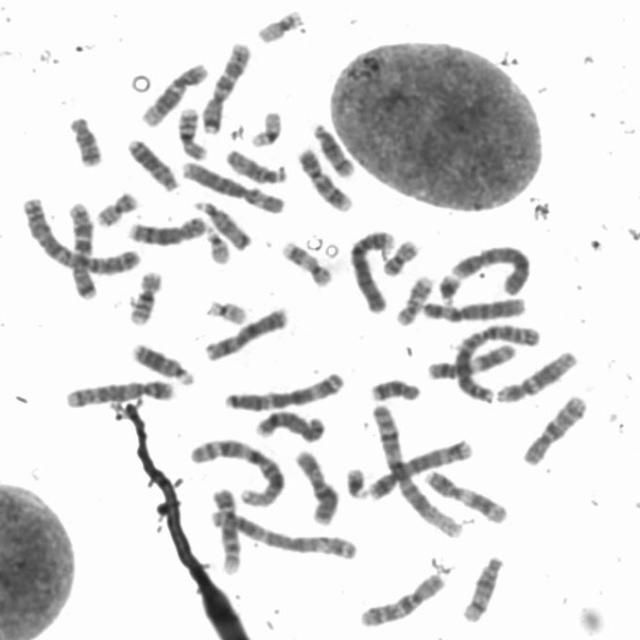A1: (370, 402, 465, 541), (186, 437, 286, 508)
A2: (22, 195, 142, 278), (452, 322, 541, 404)
A3: (207, 511, 360, 562), (224, 370, 349, 411)
B4: (346, 230, 397, 316), (448, 245, 531, 297)
B5: (368, 437, 473, 502), (64, 380, 178, 410)
C10: (519, 394, 591, 468), (356, 573, 448, 630)
C11: (422, 468, 508, 526), (425, 343, 518, 383)
C12: (137, 60, 211, 130), (494, 349, 580, 404)
C6: (180, 159, 284, 217), (420, 294, 524, 326)
C7: (200, 42, 252, 135), (64, 202, 100, 301)
C8: (125, 214, 209, 248), (252, 411, 328, 446)
C9: (297, 147, 353, 213), (210, 487, 243, 575)
D13: (124, 137, 180, 194), (126, 342, 196, 387)
D14: (460, 553, 504, 625), (312, 120, 359, 179)
D15: (191, 200, 254, 252), (225, 148, 291, 187)
E16: (126, 270, 164, 330), (175, 105, 209, 163)
E17: (282, 237, 334, 289), (395, 274, 435, 327)
E18: (68, 113, 106, 171), (368, 378, 422, 405)
F19: (252, 9, 306, 48), (250, 110, 282, 149)
F20: (93, 190, 140, 229), (379, 239, 420, 278)
G21: (434, 271, 464, 308), (345, 466, 371, 500)
G22: (201, 297, 248, 326), (202, 226, 232, 266)
X: (202, 306, 293, 364), (292, 450, 343, 526)
